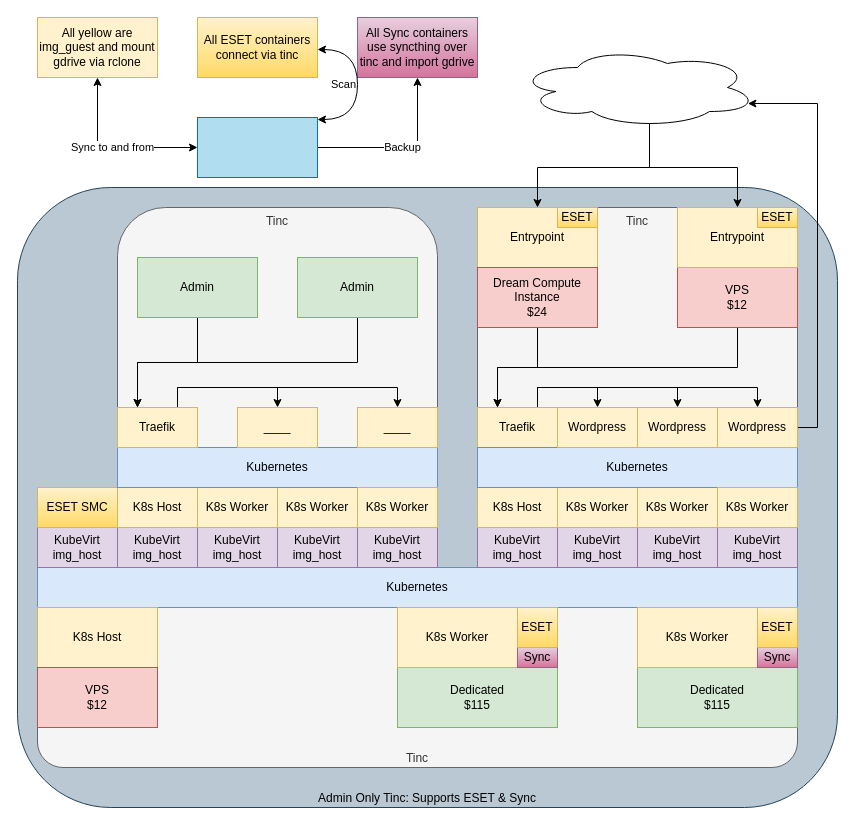
Image size: 855x825. Some labels were removed from this diagram. Here are the shapes that lost their labels. From the top down, the box of each, then its label:
(516, 46, 758, 128): Outside
(196, 116, 318, 178): Google Drive
